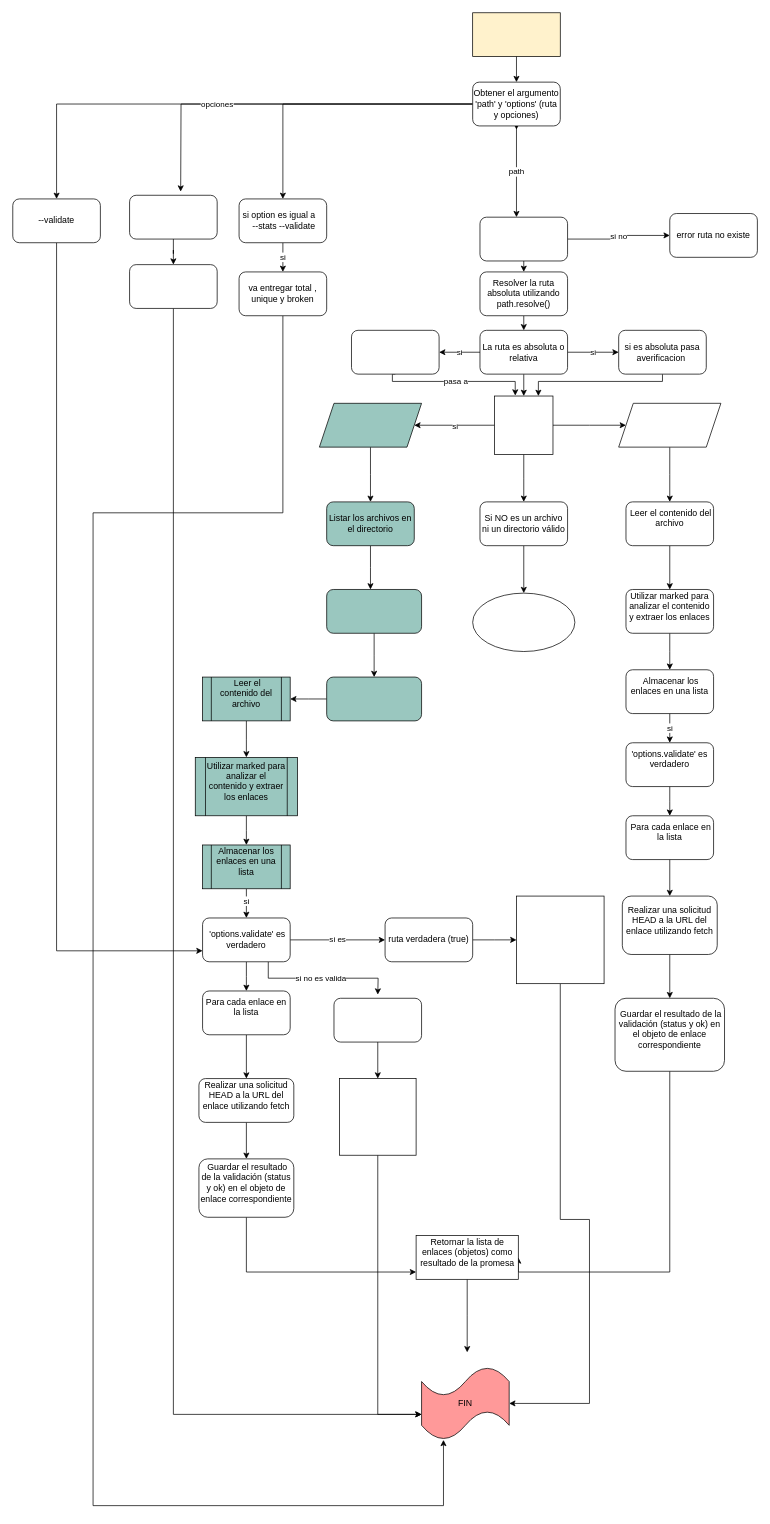
The diagram is 770 pixels wide and 1524 high, and some of its shapes have lost their labels. The centre of each missing label's shape, as x and y in pixels:
-false -href -text -file: the point at 377,1116
-href -text -file -status -ok: the point at 560,939
Emitir un mensaje de error y finalizar el proceso: the point at 523,622
es relativa se convierte a absoluta: the point at 395,352
Filtrar solo los archivos con extensión .md (Markdown): the point at 374,611
Inicio: the point at 516,34
Para cada archivo .md encontrado: the point at 374,698
ruta falsa (false): the point at 377,1020
Si es un archivo .md?: the point at 669,425
Si es un directorio?: the point at 370,425
si options es igual a --stats (true): the point at 173,217
total y unique: the point at 173,286
Verificar si la ruta es un archivo o un directorio: the point at 523,424
verificar si la ruta existe: the point at 523,238
